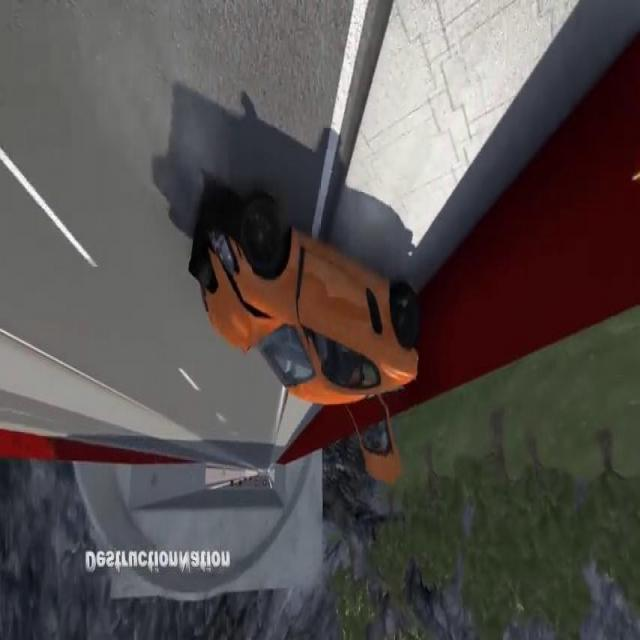moderate: (184, 177, 438, 495)
